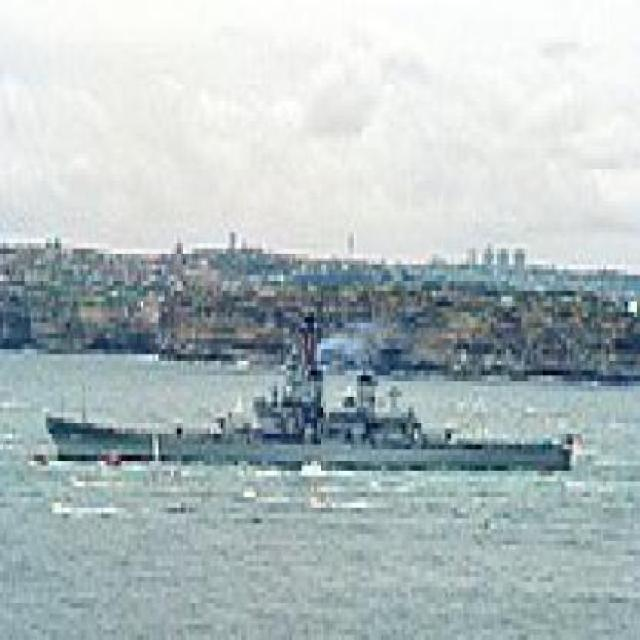warship2: (47, 329, 584, 483)
